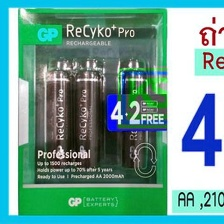battery: (115, 56, 152, 172), (37, 67, 77, 170), (67, 61, 104, 169)
